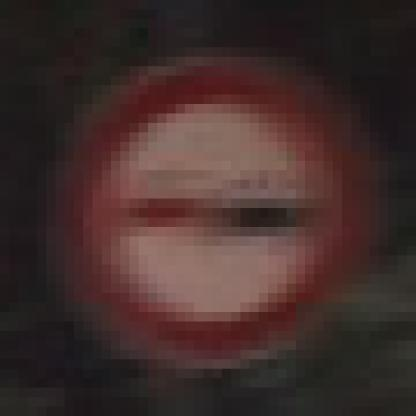No Overtaking: (47, 58, 371, 370)
